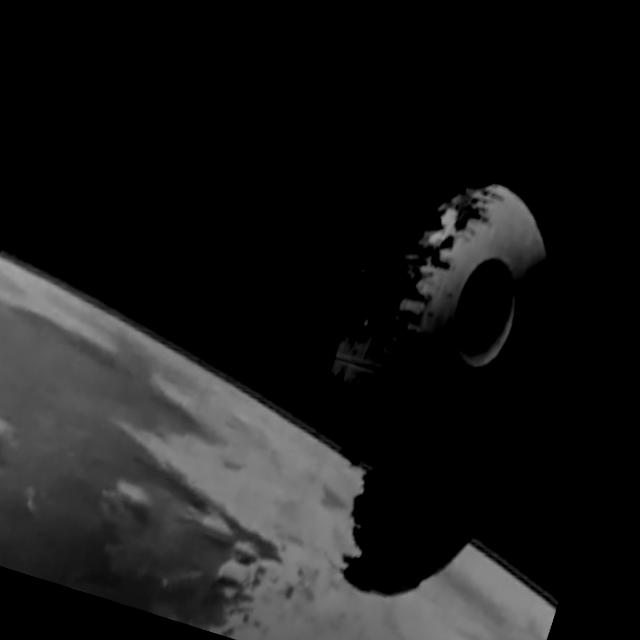death-stars: (320, 179, 558, 597)
